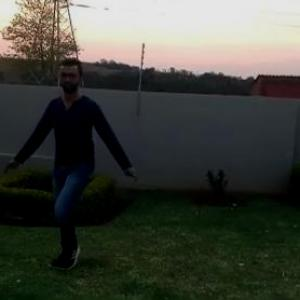land: (17, 53, 144, 264)
